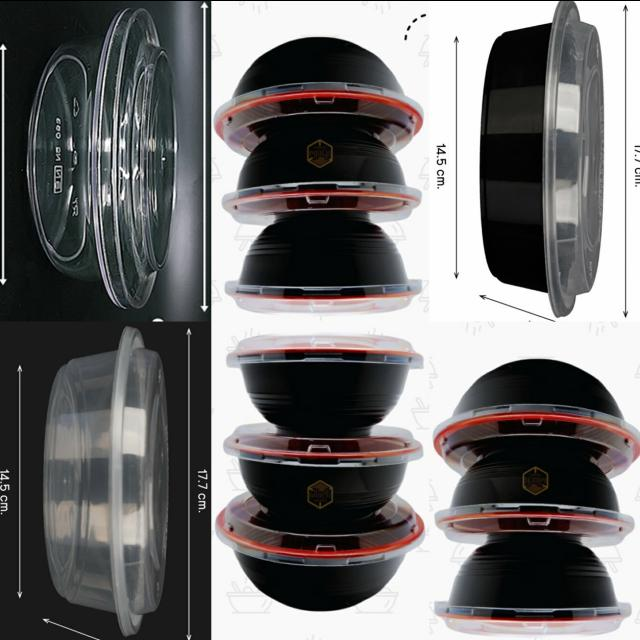plastik: (27, 7, 177, 308), (481, 0, 604, 316), (44, 326, 168, 635), (214, 37, 422, 155), (434, 358, 640, 477), (216, 492, 424, 609), (223, 122, 421, 224), (225, 422, 422, 523), (435, 534, 631, 635), (228, 334, 422, 434), (436, 448, 633, 546), (226, 214, 421, 313)
